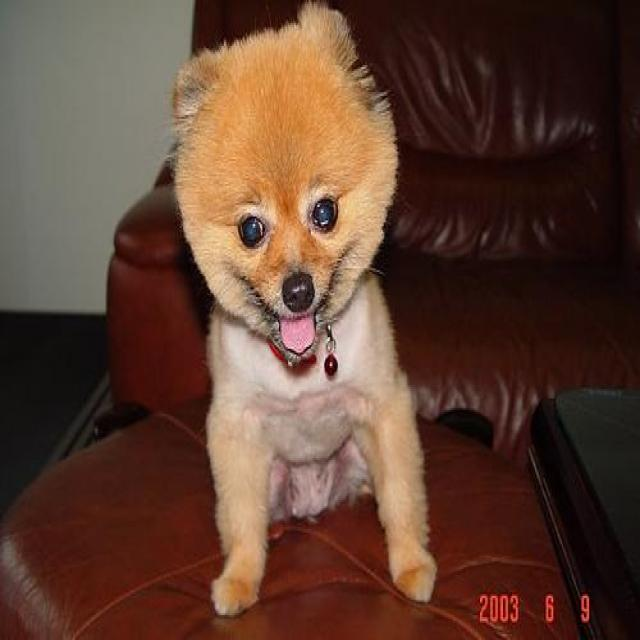sitting: (164, 0, 449, 619)
